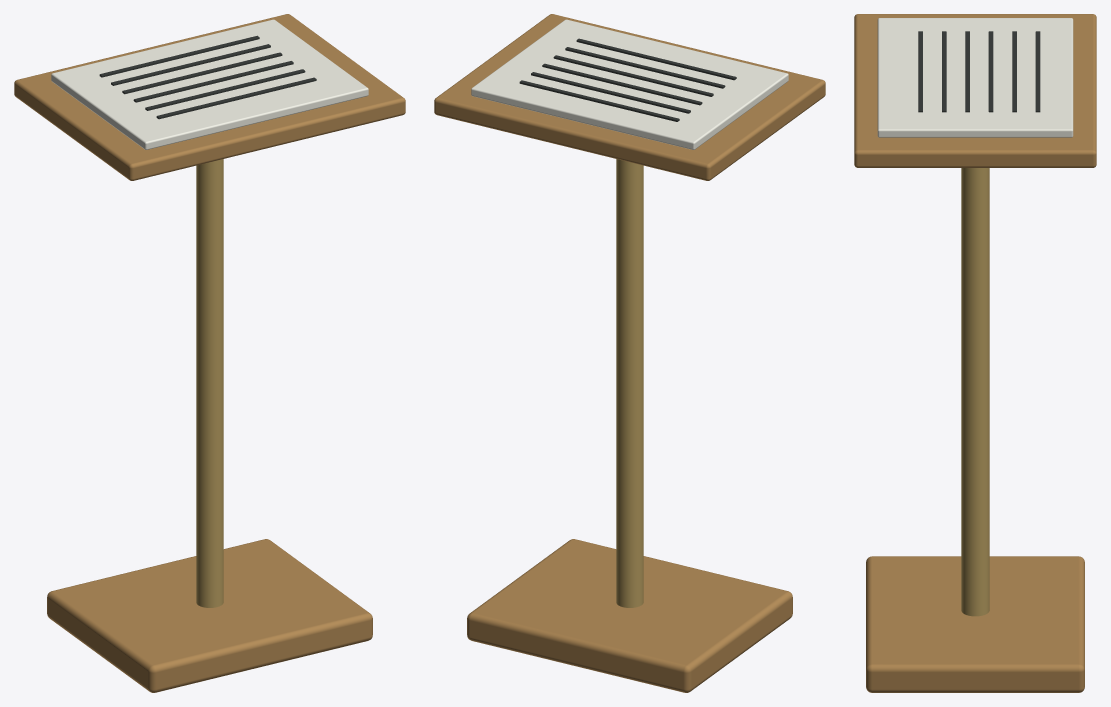
Rendered from abandoned-puppet-theatre-and-prop-vault-cue-script-sta-47e82ae4__31102.glb.
The picture shows the model from 3 angles, left to right: view 1: azimuth 30°, elevation 25°; view 2: azimuth 150°, elevation 25°; view 3: azimuth 270°, elevation 25°; orthographic projection. The views are drawn at different scales.
Parts seen in each view (by area): view 1: cue-script-stand; view 2: cue-script-stand; view 3: cue-script-stand.
Boxes of the visible parts, x1,y1,x2,y2 form: cue-script-stand: (14, 14, 405, 692); cue-script-stand: (434, 14, 825, 692); cue-script-stand: (854, 14, 1096, 692).
Bounding box in the file's own units: 0.42 × 0.801 × 0.31.
